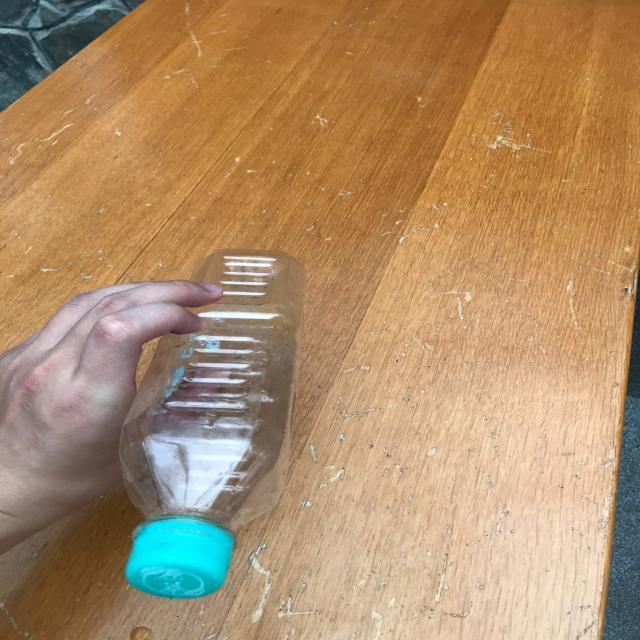bottle: (119, 250, 306, 598)
